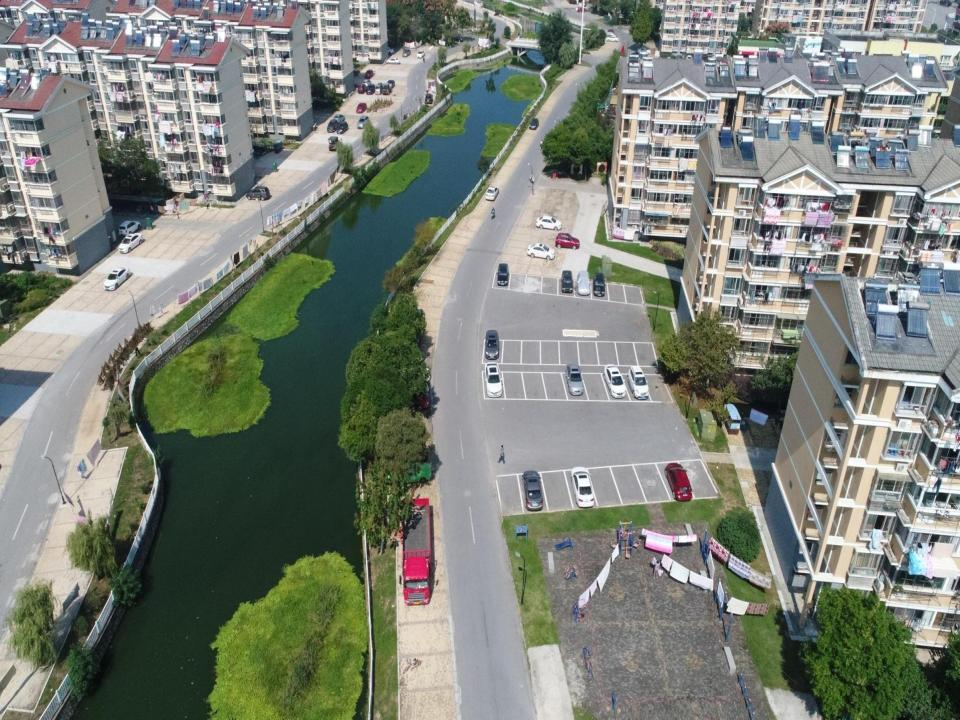car: (665, 462, 693, 502), (571, 463, 594, 509), (522, 468, 544, 512), (603, 362, 626, 399), (627, 364, 649, 400), (483, 362, 503, 398), (401, 462, 432, 484), (564, 364, 584, 396), (105, 268, 130, 291), (118, 233, 144, 254), (527, 242, 555, 260), (484, 329, 500, 359), (404, 393, 428, 412), (554, 233, 579, 250), (534, 215, 562, 230), (400, 346, 422, 365), (116, 220, 142, 236), (405, 442, 426, 460), (407, 367, 430, 383), (404, 380, 432, 393), (246, 186, 270, 201), (576, 271, 590, 296), (558, 270, 573, 292), (592, 272, 604, 296), (496, 263, 509, 285), (485, 186, 499, 200), (527, 116, 539, 132), (357, 115, 369, 130), (355, 102, 368, 114), (336, 121, 348, 133), (326, 119, 337, 131), (386, 57, 401, 65), (357, 82, 366, 94), (635, 47, 652, 53), (332, 114, 344, 122), (366, 84, 375, 94), (426, 93, 433, 105), (606, 35, 618, 42), (453, 34, 463, 42), (364, 70, 374, 78), (575, 6, 586, 12), (417, 50, 425, 58), (402, 50, 411, 57), (606, 32, 616, 38), (364, 78, 370, 86), (388, 48, 394, 55), (607, 28, 614, 34), (686, 55, 693, 59)
truck: (399, 498, 431, 605), (383, 79, 395, 95)
van: (725, 402, 741, 433), (376, 82, 382, 94)
